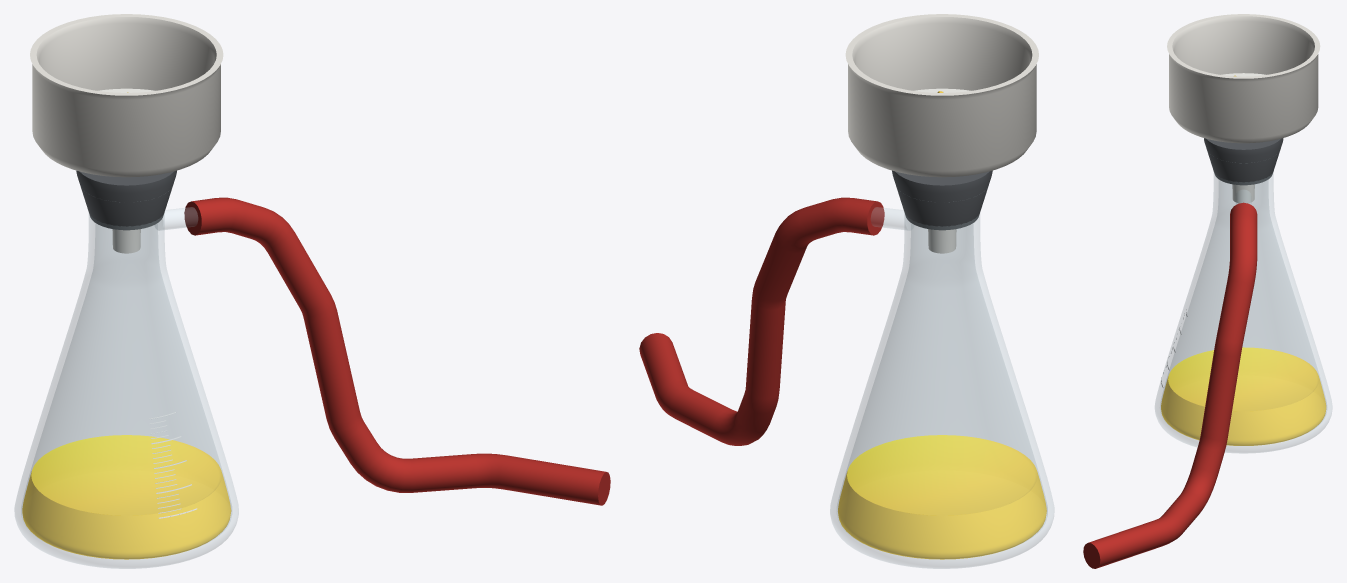
The model's file is filter-flask.glb.
3 renders of one model, left to right at view 1: azimuth 30°, elevation 25°; view 2: azimuth 150°, elevation 25°; view 3: azimuth 270°, elevation 25°, orthographic. The views are drawn at different scales.
Visible parts, largest first — view 1: Filter_Flask, Funnel; view 2: Filter_Flask, Funnel; view 3: Filter_Flask, Funnel.
Boxes of the visible parts, x1=… form: Filter_Flask: x1=14, y1=170, x2=610, y2=568; Funnel: x1=30, y1=14, x2=223, y2=253; Filter_Flask: x1=639, y1=170, x2=1054, y2=568; Funnel: x1=845, y1=14, x2=1038, y2=253; Filter_Flask: x1=1083, y1=138, x2=1332, y2=568; Funnel: x1=1167, y1=14, x2=1320, y2=203.
Bounding box in the file's own units: 0.2957 × 0.272 × 0.1643.
8 materials, 1 textured.
